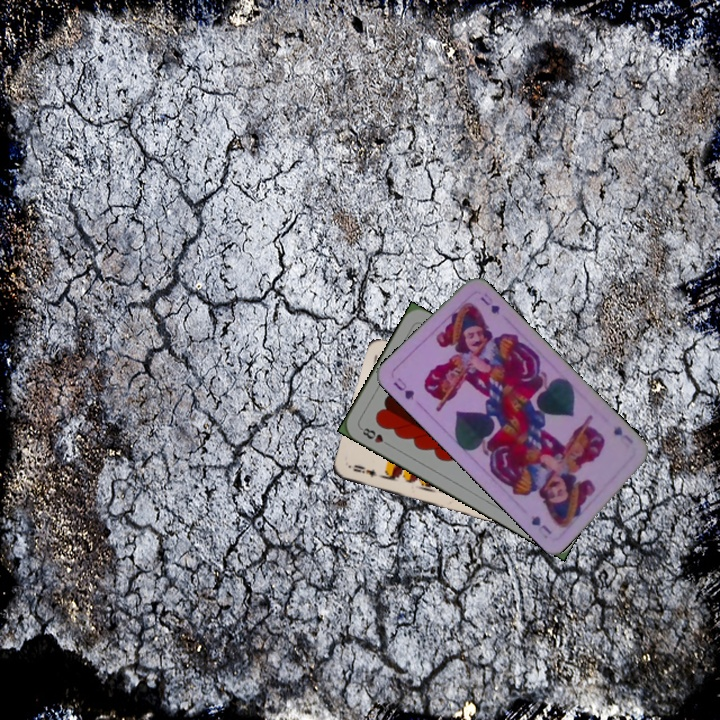E9: (349, 460, 379, 480)
GU: (389, 374, 417, 403), (609, 422, 636, 446)
H8: (356, 424, 394, 449)
